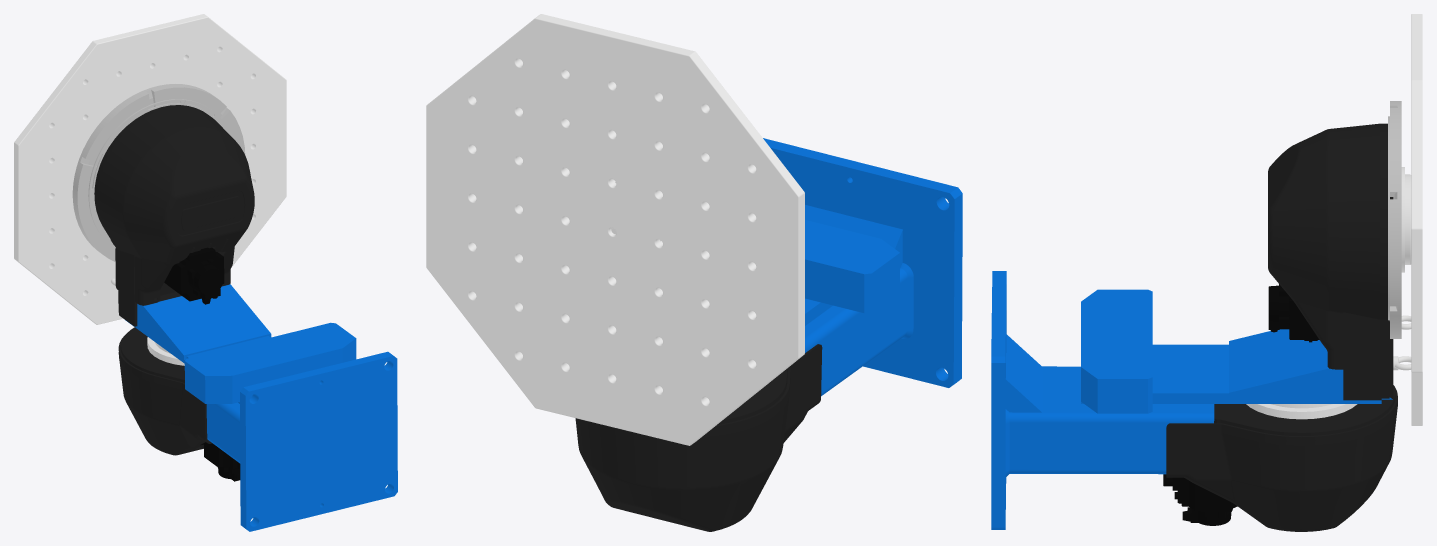
Rendered from Yaskawa_TURN2.glb.
3 renders of one model, left to right at view 1: azimuth 30°, elevation 25°; view 2: azimuth 150°, elevation 25°; view 3: azimuth 270°, elevation 25°, orthographic. The views are drawn at different scales.
Visible parts, largest first — view 1: link_2, link_1, link_0; view 2: link_2, link_0, link_1; view 3: link_1, link_0, link_2.
Part boxes in pixels (x1,y1,x2,y2): link_2: [14, 14, 286, 324]; link_1: [94, 105, 356, 403]; link_0: [118, 327, 397, 531]; link_2: [426, 14, 804, 445]; link_0: [575, 138, 962, 531]; link_1: [611, 181, 899, 325]; link_1: [1081, 123, 1411, 413]; link_0: [991, 271, 1397, 531]; link_2: [1388, 14, 1422, 425].
Bounding box in the file's own units: 0.8 × 1.09 × 0.905.
